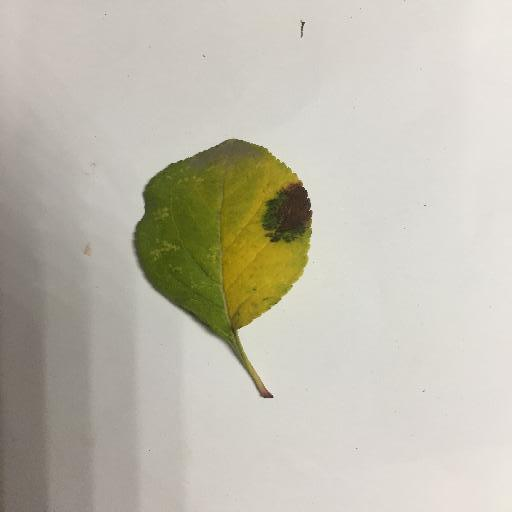Brown_Spot: (250, 182, 309, 243)
